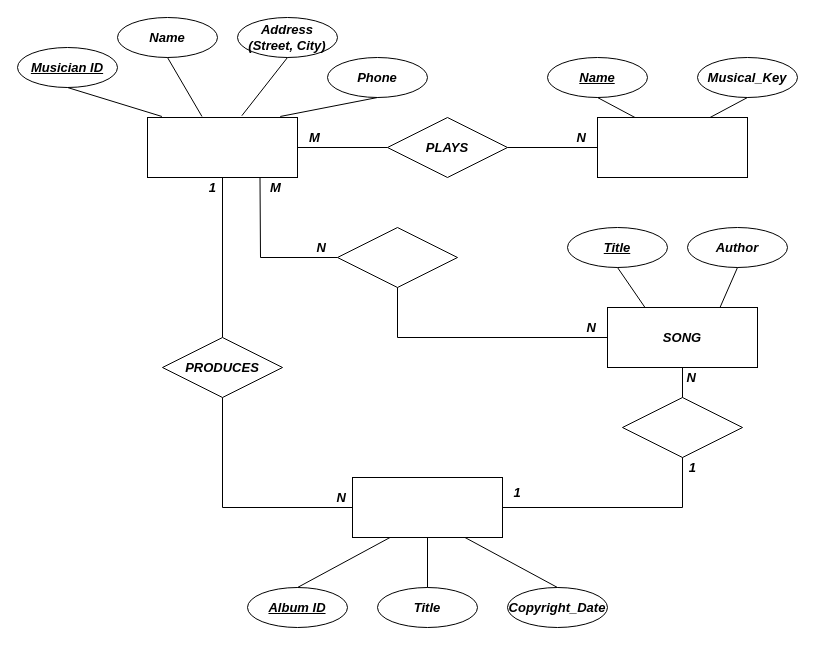
The diagram is 815 pixels wide and 645 high, and some of its shapes have lost their labels. The box of each missing label's shape, as (x1, y1, x2, y2) in pixels:
ALBUM: (352, 476, 502, 538)
CONTAINS: (622, 396, 742, 458)
INSTRUMENT: (596, 116, 748, 178)
MUSICIAN: (146, 116, 298, 178)
PERFORMS: (336, 226, 458, 288)
